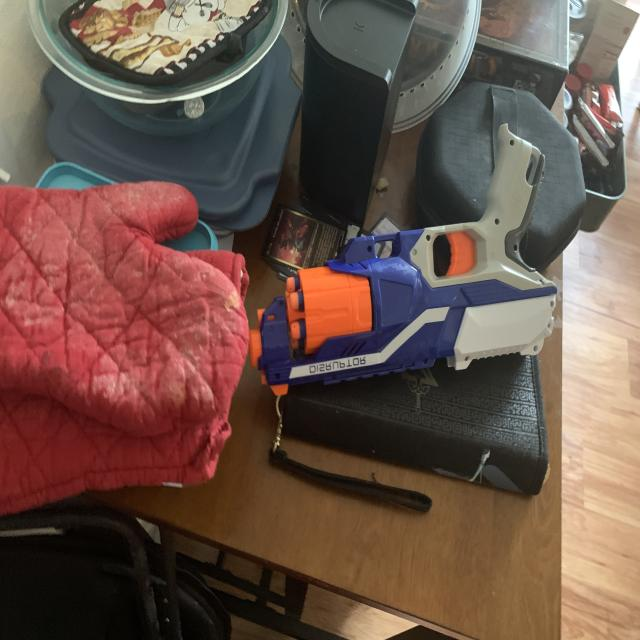nerf-maverik: (240, 113, 575, 427)
